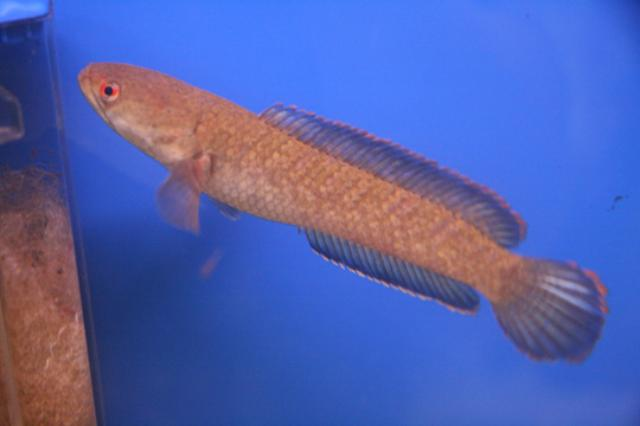Mulut: (70, 54, 132, 146)
Sirip Anal: (296, 223, 486, 330)
Sirip Dada: (150, 148, 204, 244), (203, 179, 243, 229)
Sirip Ekor: (482, 242, 616, 378)
Sirip Punggung: (255, 98, 530, 256)
